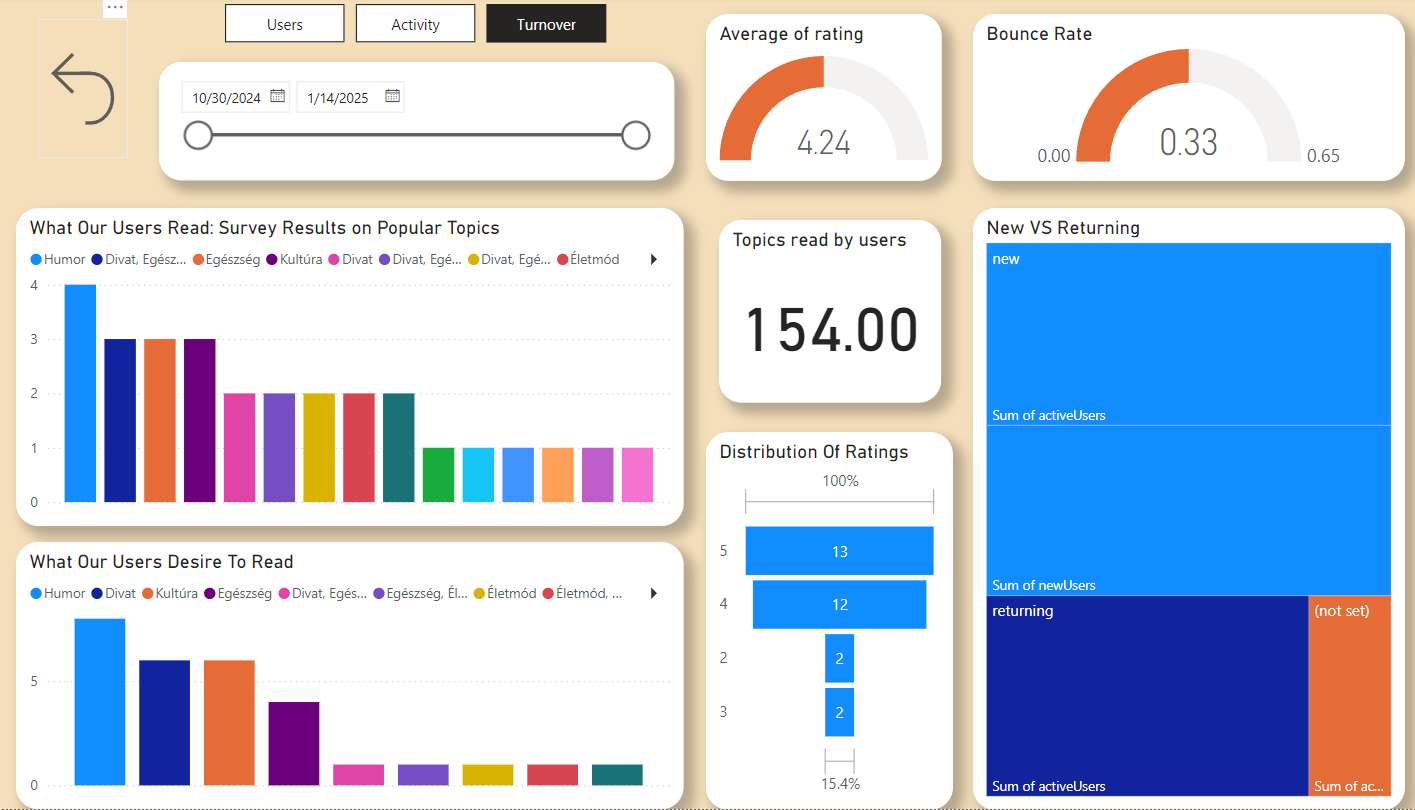

This screenshot's page, from the dashboard's own definition file:
{"tool":"powerbi","page":{"name":"Turnover","canvas":[1280,720],"ordinal":2},"visuals":[{"type":"slicer","fields":{"Values":["DateTimeTable.DateTime"]},"box":[143.9,58,456.6,104.9],"z":0},{"type":"actionButton","box":[36.4,19.5,79.8,123.3],"z":1000},{"type":"treemap","title":"New VS Returning","fields":{"Values":["Sum(Users.activeUsers)","Sum(Users.newUsers)"],"Group":["Users.newVsReturning"]},"box":[865.3,186.9,382.7,533.6],"z":2000},{"type":"gauge","fields":{"Y":["Avg(Action.bounceRate)"]},"box":[865.3,15,382.7,147.9],"z":3000},{"type":"pageNavigator","box":[201.8,6,340.7,35],"z":4000},{"type":"gauge","fields":{"Y":["Sum(forminator-velemenyfelmeres-[number redacted].rating)"]},"box":[628.5,15,208.8,147.9],"z":5000},{"type":"columnChart","title":"What Our Users Read: Survey Results on Popular Topics","fields":{"Y":["CountNonNull(forminator-velemenyfelmeres-[number redacted].Submission Time)"],"Category":["forminator-velemenyfelmeres-[number redacted].Milyen témákban olvastál cikkeket?"],"Series":["forminator-velemenyfelmeres-[number redacted].Milyen témákban olvastál cikkeket?"]},"box":[17,186.9,591.5,281.8],"z":6000},{"type":"card","title":"Topics read by users","fields":{"Values":["Sum(forminator-velemenyfelmeres-[number redacted].Összesen hány cikküket tekintetted meg?)"]},"box":[640.5,197.8,196.8,161.9],"z":7000},{"type":"columnChart","title":"What Our Users Desire To Read","fields":{"Category":["forminator-velemenyfelmeres-[number redacted].Milyen témákban látnál szívesen még cikket?"],"Series":["forminator-velemenyfelmeres-[number redacted].Milyen témákban látnál szívesen még cikket?"],"Y":["CountNonNull(forminator-velemenyfelmeres-[number redacted].Submission Time)"]},"box":[17,483.6,591.5,236.8],"z":8000},{"type":"funnel","title":"Distribution Of Ratings","fields":{"Category":["forminator-velemenyfelmeres-[number redacted].rating"],"Y":["CountNonNull(forminator-velemenyfelmeres-[number redacted].Submission Time)"]},"box":[628.5,385.7,218.8,334.7],"z":9000}]}

Visuals, with their boxes in screenshot pixels (x1, y1, x2, y2), scaled from the page's 1280x720 canvas onto the 1415x810 screenshot:
slicer - DateTimeTable.DateTime: [left=159, top=65, right=664, bottom=183]
actionButton: [left=40, top=22, right=128, bottom=161]
"New VS Returning" treemap: [left=957, top=210, right=1380, bottom=809]
gauge - Avg(Action.bounceRate): [left=957, top=17, right=1380, bottom=183]
pageNavigator: [left=223, top=7, right=600, bottom=46]
gauge - Sum(forminator-velemenyfelmeres-[number redacted].rating): [left=695, top=17, right=926, bottom=183]
"What Our Users Read: Survey Results on Popular Topics" columnChart: [left=19, top=210, right=673, bottom=527]
"Topics read by users" card: [left=708, top=223, right=926, bottom=405]
"What Our Users Desire To Read" columnChart: [left=19, top=544, right=673, bottom=809]
"Distribution Of Ratings" funnel: [left=695, top=434, right=937, bottom=809]
